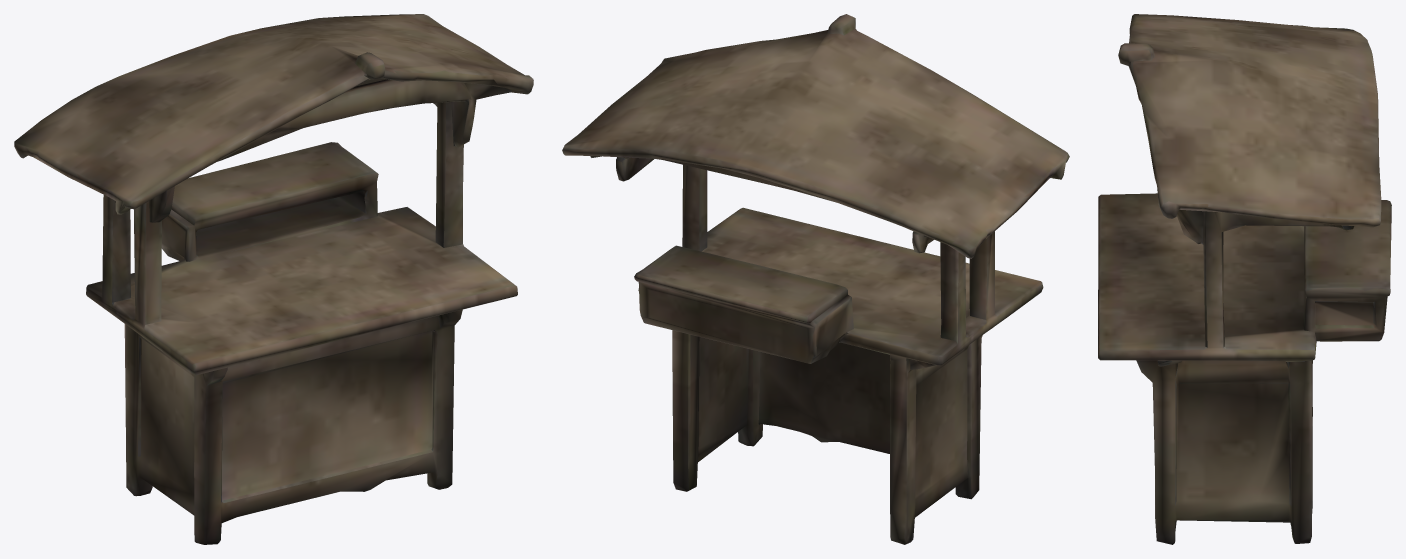
The model's file is old-wood-market-stall-v002.glb.
3 views of the same model, side by side, from view 1: azimuth 30°, elevation 25°; view 2: azimuth 150°, elevation 25°; view 3: azimuth 270°, elevation 25° (orthographic). The views are drawn at different scales.
Visible parts, largest first — view 1: old-wood-market-stall; view 2: old-wood-market-stall; view 3: old-wood-market-stall.
Boxes of the visible parts, x1,y1,x2,y2 form: old-wood-market-stall: (14,14,533,544); old-wood-market-stall: (562,14,1069,544); old-wood-market-stall: (1098,14,1391,544).
Bounding box in the file's own units: 2.44 × 2.52 × 1.47.
Materials: 1 (1 with a texture image).
